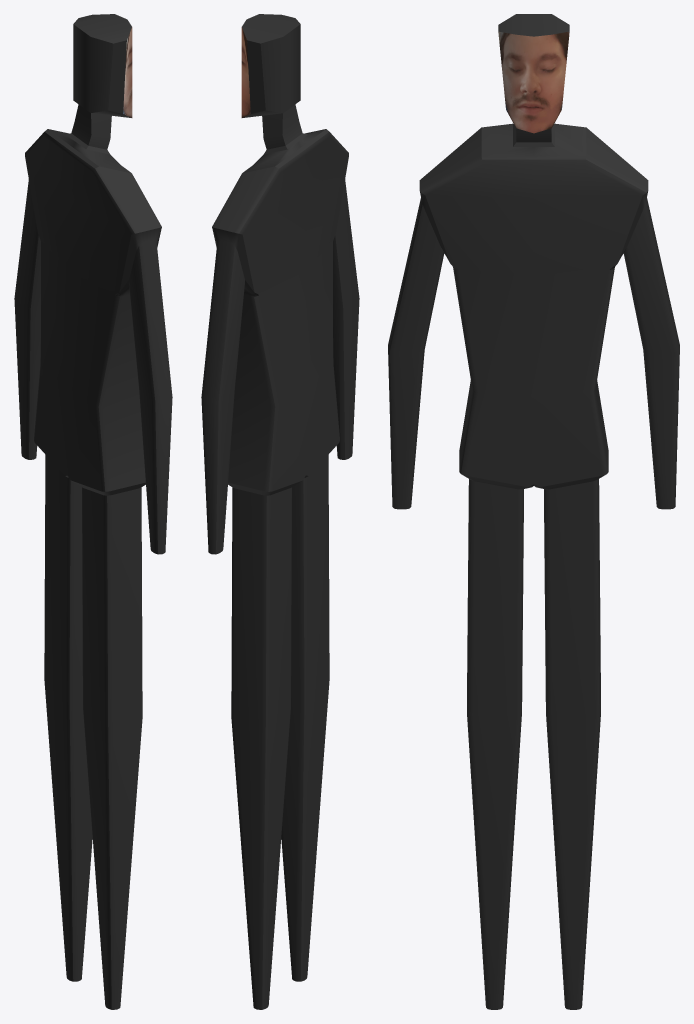
The model's file is elephant_dead.fbx.
3 renders of one model, left to right at view 1: azimuth 30°, elevation 25°; view 2: azimuth 150°, elevation 25°; view 3: azimuth 270°, elevation 25°, orthographic. The views are drawn at different scales.
Parts seen in each view (by area): view 1: elephant_dead; view 2: elephant_dead; view 3: elephant_dead.
Boxes of the visible parts, x1,y1,x2,y2 form: elephant_dead: [14, 14, 172, 1009]; elephant_dead: [201, 14, 359, 1009]; elephant_dead: [388, 14, 679, 1009].
Bounding box in the file's own units: 0.7035 × 10.93 × 2.93.
